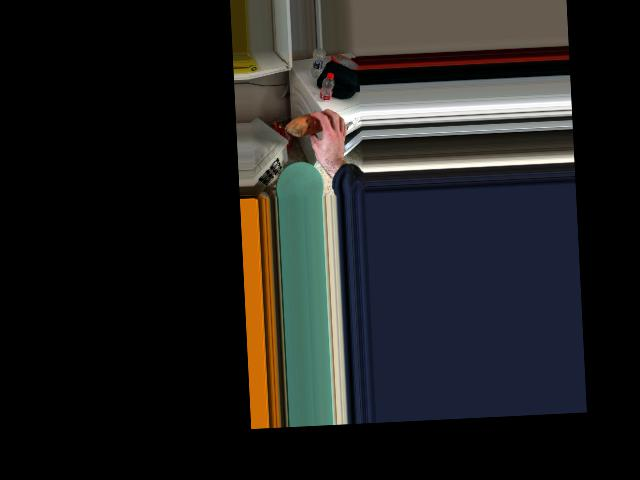sweet_potato: (293, 115, 327, 132)
